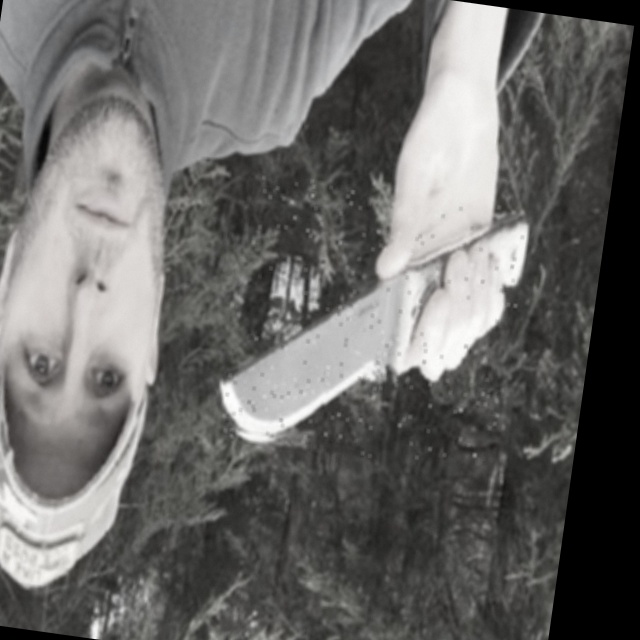Sharp-Object: (214, 172, 532, 477)
